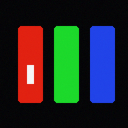4 line_v: (27, 65, 33, 83)
